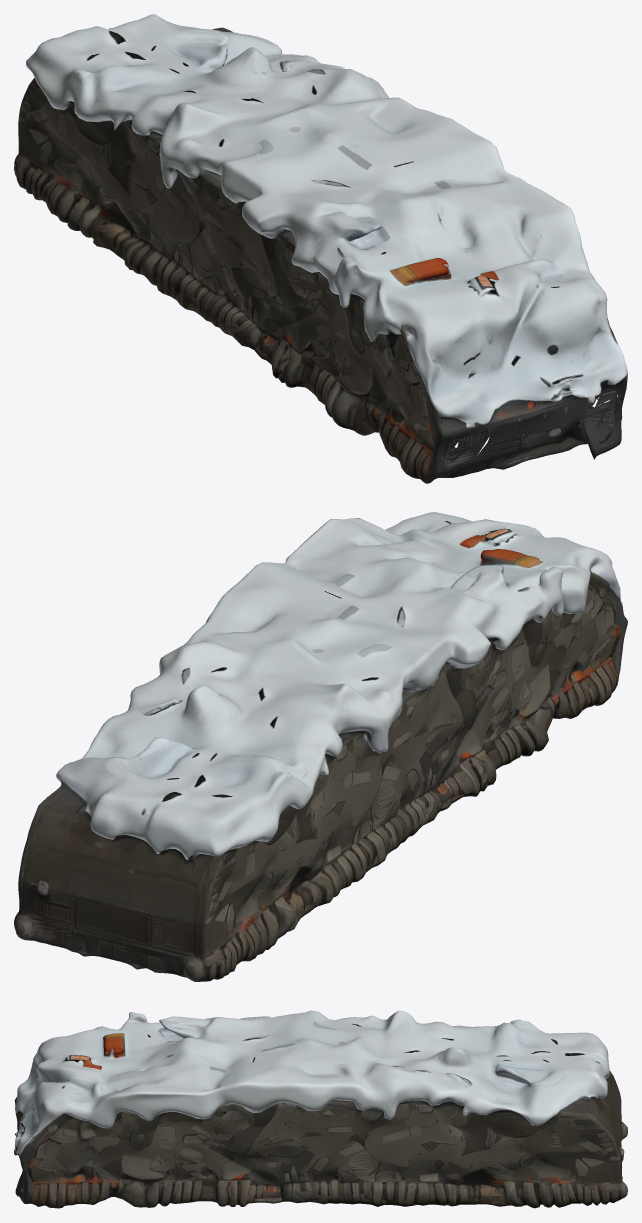
File: g67_snowdrift.glb
3 renders of one model, top to bottom at view 1: azimuth 30°, elevation 25°; view 2: azimuth 150°, elevation 25°; view 3: azimuth 270°, elevation 25°, orthographic. The views are drawn at different scales.
Visible parts, largest first — view 1: tripo_node_6ebf37fd; view 2: tripo_node_6ebf37fd; view 3: tripo_node_6ebf37fd.
Part boxes in pixels (x1,y1,x2,y2): tripo_node_6ebf37fd: [14, 14, 627, 483]; tripo_node_6ebf37fd: [14, 512, 627, 981]; tripo_node_6ebf37fd: [14, 1010, 627, 1208].
Bounding box in the file's own units: 31.11 × 24.35 × 97.61.
Materials: 1 (1 with a texture image).
